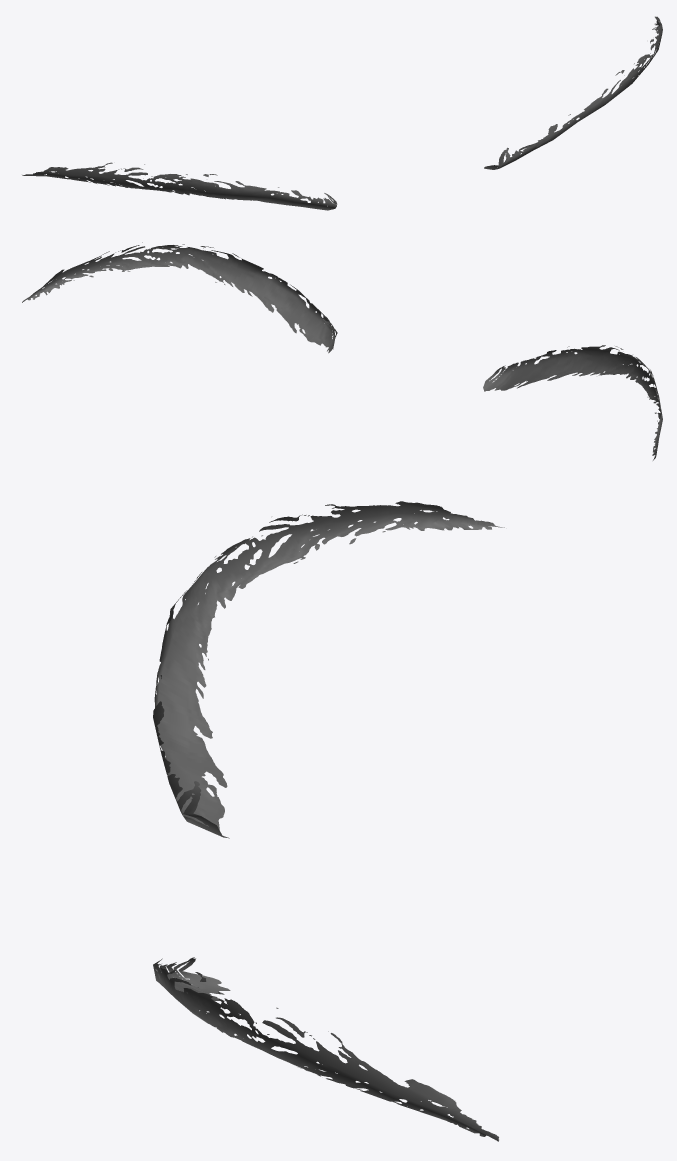
File: brow005.glb
3 views of the same model, one above another, from view 1: azimuth 30°, elevation 25°; view 2: azimuth 150°, elevation 25°; view 3: azimuth 270°, elevation 25° (orthographic). The views are drawn at different scales.
Parts seen in each view (by area): view 1: editor_brow005; view 2: editor_brow005; view 3: editor_brow005.
Boxes of the visible parts, <box> form: editor_brow005: <box>22,16,662,210</box>; editor_brow005: <box>22,242,662,460</box>; editor_brow005: <box>153,501,504,1141</box>.
Bounding box in the file's own units: 0.1061 × 0.0132 × 0.0267.
Materials: 1 (1 with a texture image).
